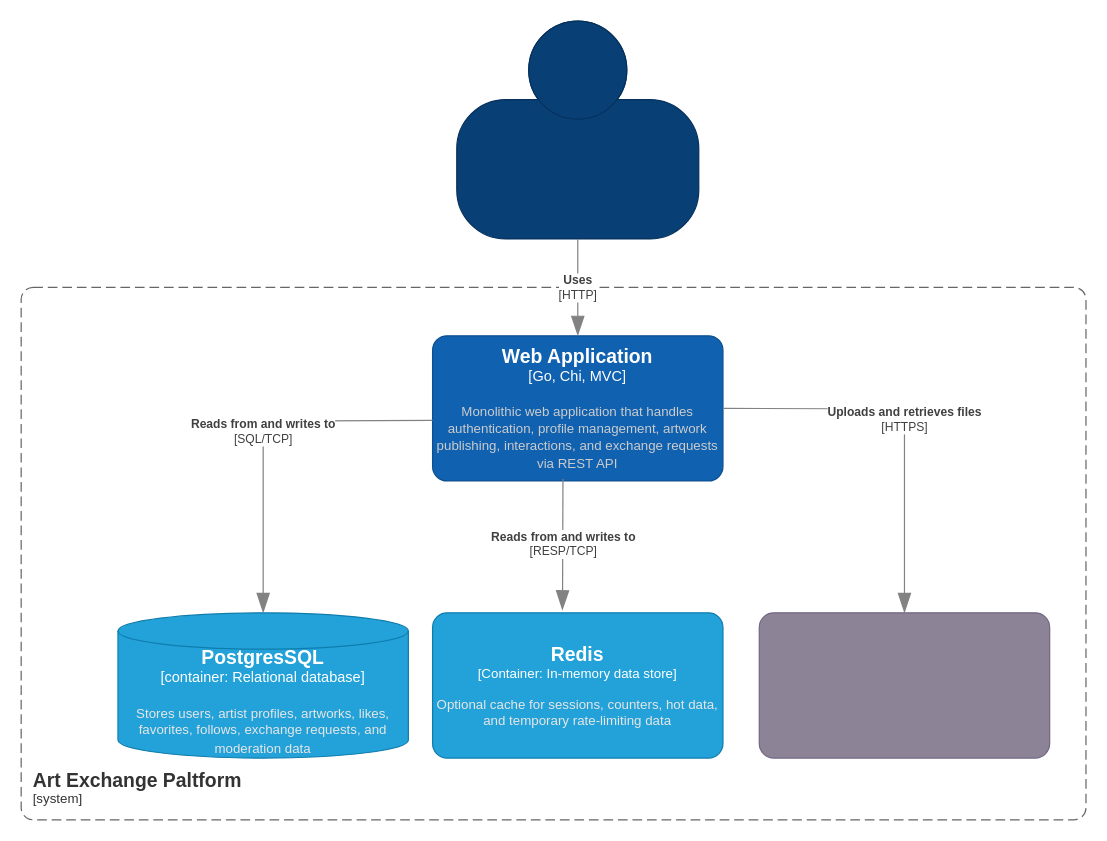
Some shapes in this 1107 by 841 pixel diagram are drawn without their labels. Each missing label, with the box of its shape:
AWS S3 [Object storage] Optional storage for artwork images and user avatars: (758, 612, 1050, 758)
User [Person] Artist, viewer, or admin using the platform via browser: (456, 20, 699, 239)
